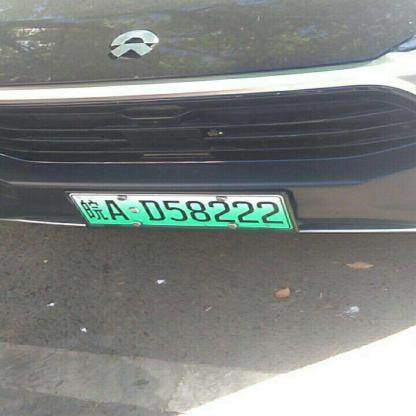lp: (70, 195, 290, 227)
